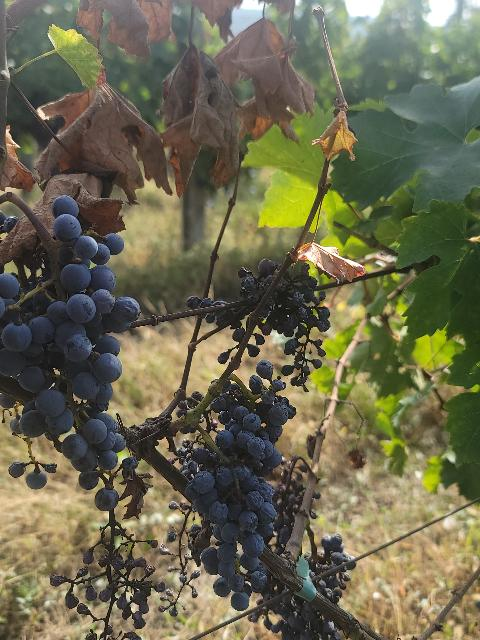grapes: (0, 195, 140, 489), (179, 440, 288, 611), (210, 375, 295, 469), (271, 595, 341, 640), (304, 534, 354, 578), (314, 564, 355, 604)
